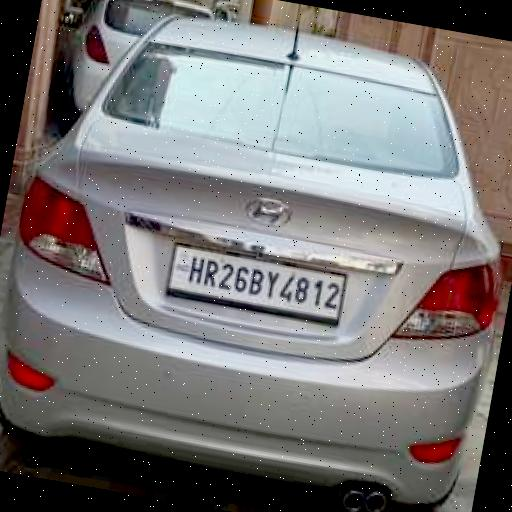license_plate`: (166, 242, 344, 314)
